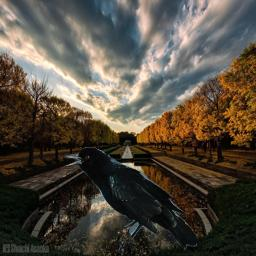Crow: (64, 147, 197, 253)
